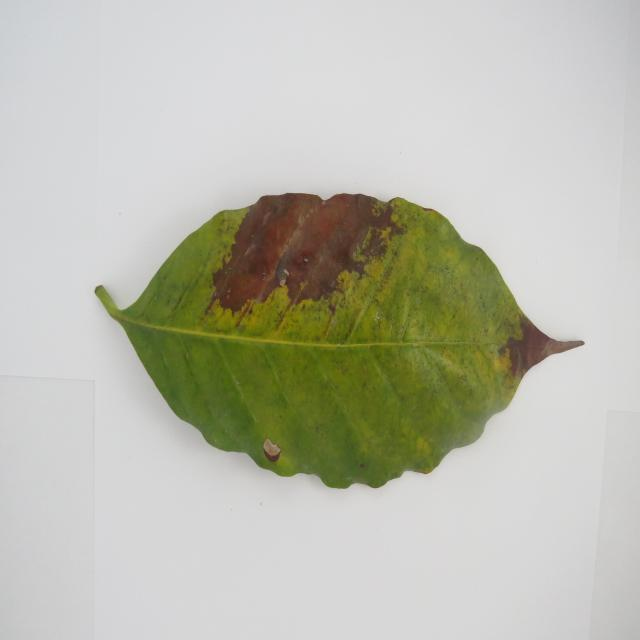DeficienciaNutricional-Potasio: (95, 193, 582, 488)
